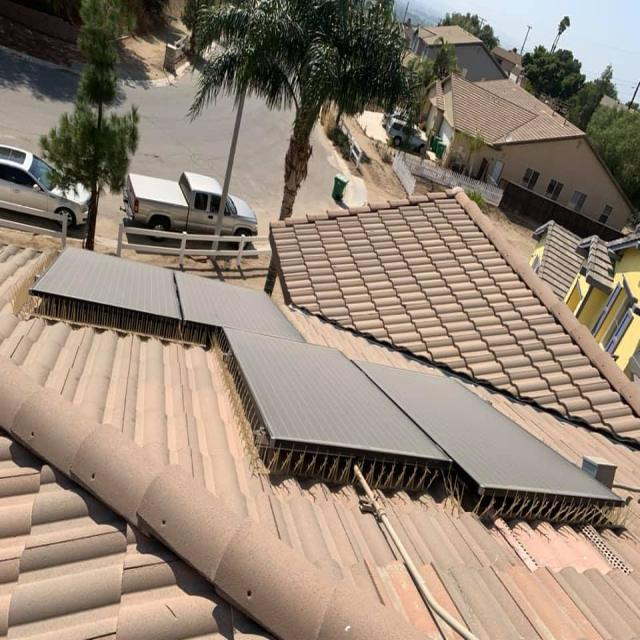dust-solar-panel: (36, 247, 624, 502)
